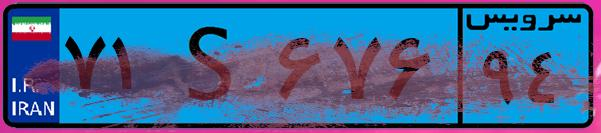1: (110, 28, 158, 98)
4: (525, 38, 570, 115)
6: (270, 28, 330, 110), (385, 28, 445, 110)
7: (330, 28, 385, 110), (57, 26, 110, 100)
9: (475, 38, 525, 113)
S: (158, 12, 270, 120)
